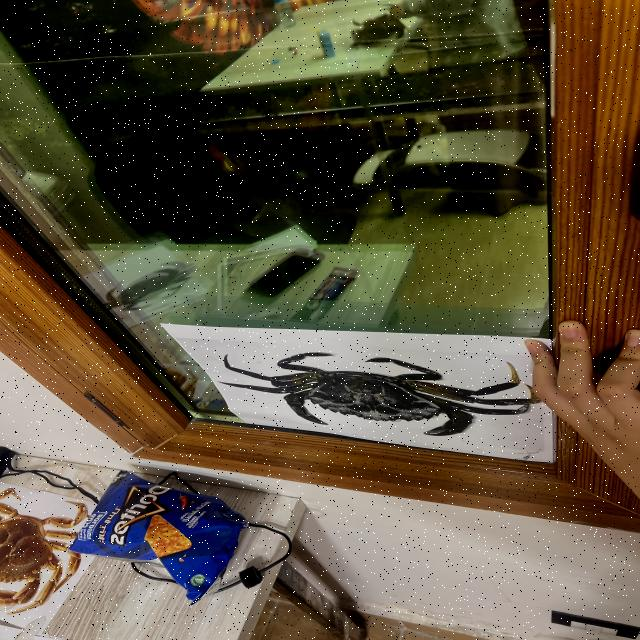European_Green_Crab: (214, 347, 544, 441)
